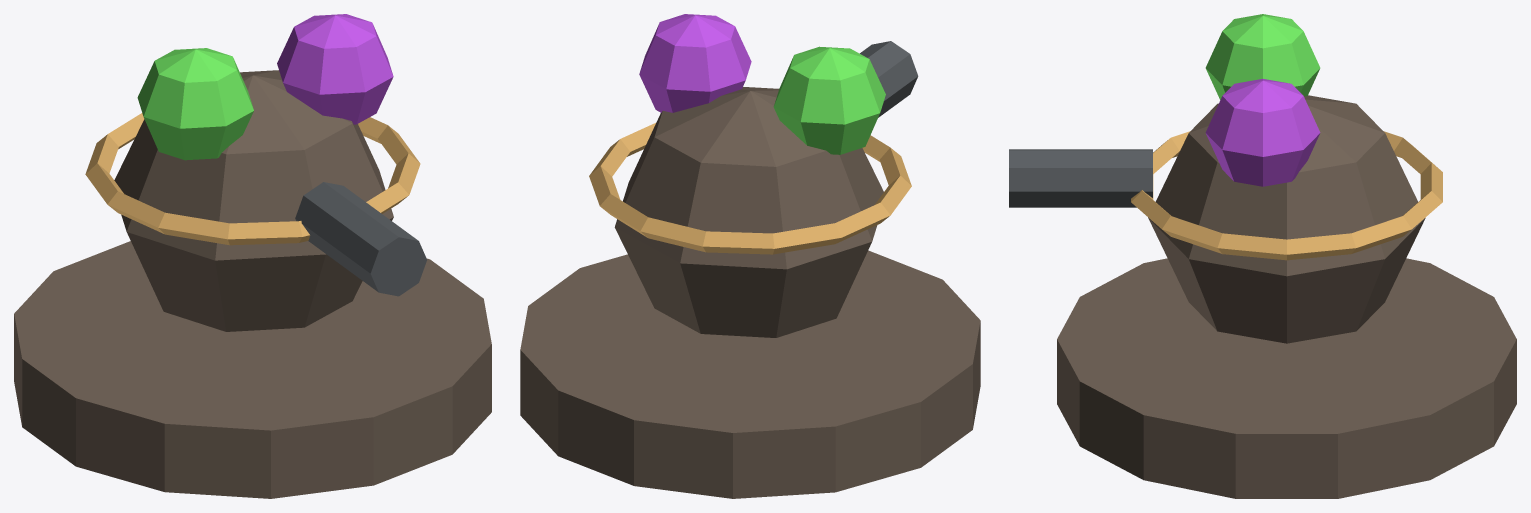
File: TD_AlchemistTower_T0.fbx
3 views of the same model, side by side, from view 1: azimuth 30°, elevation 25°; view 2: azimuth 150°, elevation 25°; view 3: azimuth 270°, elevation 25° (orthographic). The views are drawn at different scales.
Parts seen in each view (by area): view 1: TD_AlchemistTower_T0_Base, TD_AlchemistTower_T0_Kettle, TD_AlchemistTower_T0_Potion_Green, TD_AlchemistTower_T0_Potion_Purple, TD_AlchemistTower_T0_Frame, TD_AlchemistTower_T0_Nozzle; view 2: TD_AlchemistTower_T0_Base, TD_AlchemistTower_T0_Kettle, TD_AlchemistTower_T0_Frame, TD_AlchemistTower_T0_Potion_Green, TD_AlchemistTower_T0_Potion_Purple, TD_AlchemistTower_T0_Nozzle; view 3: TD_AlchemistTower_T0_Base, TD_AlchemistTower_T0_Kettle, TD_AlchemistTower_T0_Potion_Purple, TD_AlchemistTower_T0_Frame, TD_AlchemistTower_T0_Nozzle, TD_AlchemistTower_T0_Potion_Green.
Boxes of the visible parts, box(x1,y1,x2,y2) form: TD_AlchemistTower_T0_Base: box(14, 241, 491, 498); TD_AlchemistTower_T0_Kettle: box(114, 70, 393, 331); TD_AlchemistTower_T0_Potion_Green: box(137, 48, 253, 160); TD_AlchemistTower_T0_Potion_Purple: box(277, 14, 393, 124); TD_AlchemistTower_T0_Frame: box(85, 113, 420, 245); TD_AlchemistTower_T0_Nozzle: box(295, 182, 426, 296); TD_AlchemistTower_T0_Base: box(520, 250, 980, 498); TD_AlchemistTower_T0_Kettle: box(614, 87, 883, 337); TD_AlchemistTower_T0_Frame: box(589, 123, 911, 254); TD_AlchemistTower_T0_Potion_Green: box(773, 46, 885, 154); TD_AlchemistTower_T0_Potion_Purple: box(639, 14, 751, 112); TD_AlchemistTower_T0_Nozzle: box(860, 41, 918, 117); TD_AlchemistTower_T0_Base: box(1057, 258, 1516, 498); TD_AlchemistTower_T0_Kettle: box(1148, 95, 1425, 343); TD_AlchemistTower_T0_Potion_Purple: box(1205, 79, 1320, 186); TD_AlchemistTower_T0_Frame: box(1131, 131, 1442, 260); TD_AlchemistTower_T0_Nozzle: box(1009, 149, 1152, 207); TD_AlchemistTower_T0_Potion_Green: box(1205, 14, 1320, 99).
Bounding box in the file's own units: 0.9359 × 0.82 × 1.06.
